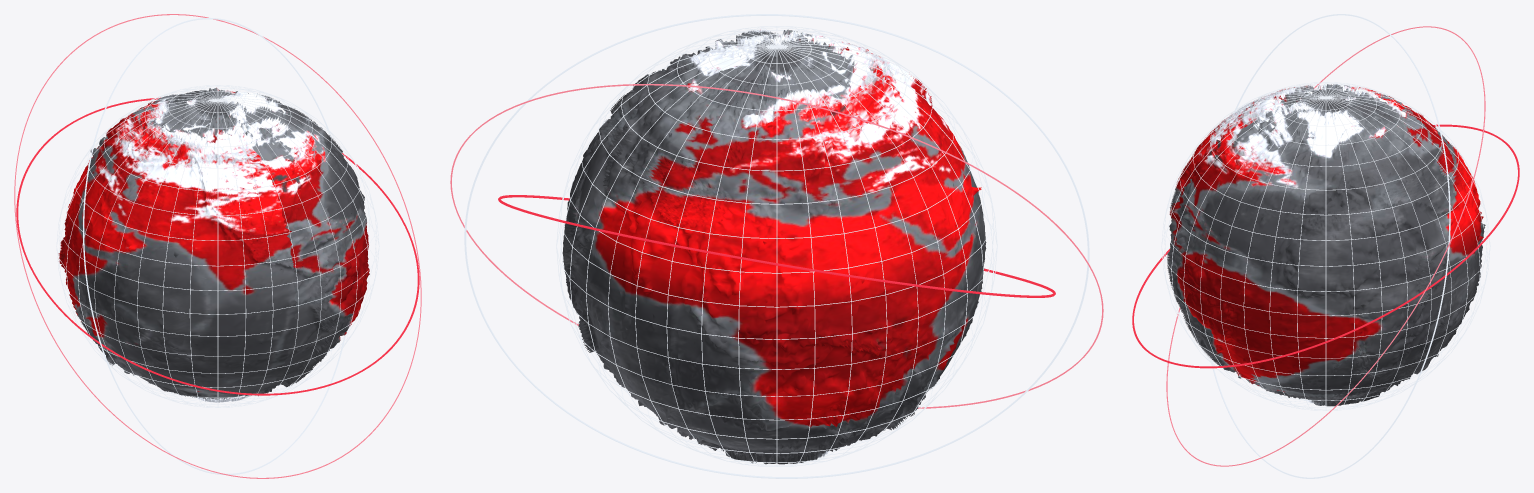
File: hacker-earth.glb
3 renders of one model, left to right at view 1: azimuth 30°, elevation 25°; view 2: azimuth 150°, elevation 25°; view 3: azimuth 270°, elevation 25°, orthographic. The views are drawn at different scales.
Parts seen in each view (by area): view 1: NASA_Earth_Relief, Cyber_Wire_Shell, Orbit_Signal, Orbit_Crimson, Orbit_Silver; view 2: NASA_Earth_Relief, Cyber_Wire_Shell, Orbit_Silver, Orbit_Signal, Orbit_Crimson; view 3: NASA_Earth_Relief, Cyber_Wire_Shell, Orbit_Silver, Orbit_Crimson, Orbit_Signal.
Part boxes in pixels (left/top/right/bottom): NASA_Earth_Relief: left=58, top=87, right=369, bottom=402; Cyber_Wire_Shell: left=56, top=85, right=379, bottom=407; Orbit_Signal: left=14, top=14, right=421, bottom=478; Orbit_Crimson: left=16, top=97, right=419, bottom=395; Orbit_Silver: left=83, top=17, right=345, bottom=475; NASA_Earth_Relief: left=562, top=29, right=986, bottom=464; Cyber_Wire_Shell: left=556, top=26, right=997, bottom=466; Orbit_Silver: left=464, top=14, right=1089, bottom=478; Orbit_Signal: left=450, top=84, right=1103, bottom=408; Orbit_Crimson: left=498, top=195, right=1055, bottom=297; NASA_Earth_Relief: left=1167, top=84, right=1485, bottom=406; Cyber_Wire_Shell: left=1161, top=82, right=1490, bottom=410; Orbit_Silver: left=1210, top=14, right=1450, bottom=478; Orbit_Crimson: left=1132, top=124, right=1519, bottom=368; Orbit_Signal: left=1166, top=26, right=1485, bottom=466.
Bounding box in the file's own units: 6.05 × 5.52 × 4.8.
Materials: 5 (1 with a texture image).
